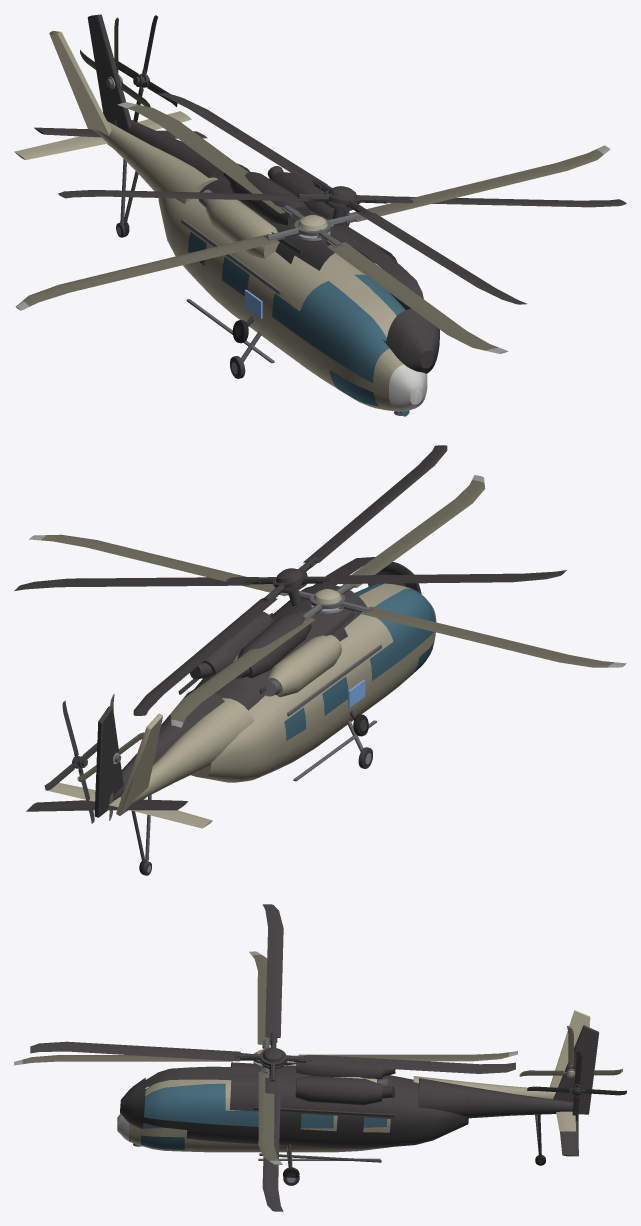
Rendered from helicopter__uh_60p.glb.
3 renders of one model, top to bottom at view 1: azimuth 30°, elevation 25°; view 2: azimuth 150°, elevation 25°; view 3: azimuth 270°, elevation 25°, orthographic. The views are drawn at different scales.
Visible parts, largest first — view 1: Fuselage_Mesh, Wreck, Rotor_Main_Mesh, Engines_Mesh, Landing_Gear_Mesh, Rotor_Tail_Mesh; view 2: Fuselage_Mesh, Wreck, Rotor_Main_Mesh, Engines_Mesh, Landing_Gear_Mesh; view 3: Wreck, Fuselage_Mesh, Rotor_Main_Mesh, Rotor_Tail_Mesh.
Part boxes in pixels (box(x1,y1,x2,y2)): Fuselage_Mesh: box(14, 31, 427, 416); Wreck: box(34, 14, 626, 373); Rotor_Main_Mesh: box(15, 102, 610, 353); Engines_Mesh: box(198, 189, 279, 259); Landing_Gear_Mesh: box(116, 159, 261, 378); Rotor_Tail_Mesh: box(80, 17, 150, 126); Fuselage_Mesh: box(45, 583, 436, 828); Wreck: box(14, 445, 566, 873); Rotor_Main_Mesh: box(29, 475, 626, 727); Engines_Mesh: box(233, 635, 341, 697); Landing_Gear_Mesh: box(141, 720, 372, 875); Wreck: box(30, 904, 626, 1211); Fuselage_Mesh: box(117, 1010, 590, 1160); Rotor_Main_Mesh: box(14, 951, 517, 1164); Rotor_Tail_Mesh: box(519, 1026, 622, 1078).
Size of what is drawn, in the model's own units: 16.77 by 6.21 by 19.9.
